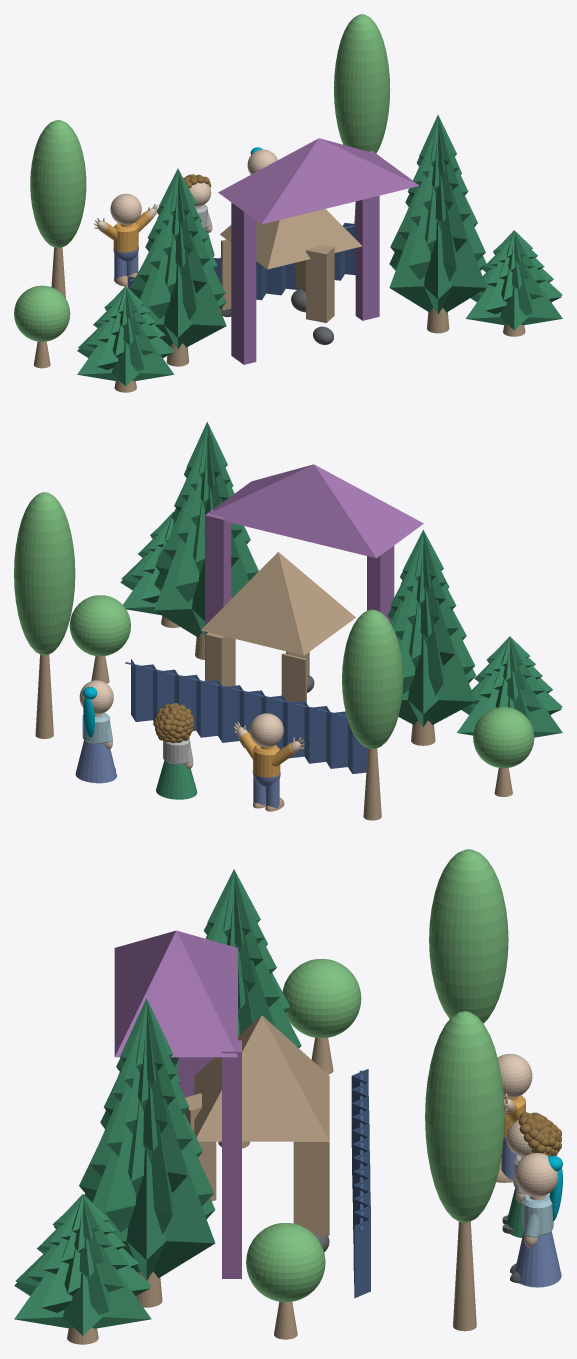
Rendered from catayleo2.gltf.
The picture shows the model from 3 angles, top to bottom: view 1: azimuth 30°, elevation 25°; view 2: azimuth 150°, elevation 25°; view 3: azimuth 270°, elevation 25°; orthographic projection. The views are drawn at different scales.
Visible parts, largest first — view 1: Mesh_Mesh_head_geo.001_lambert2SG.001; view 2: Mesh_Mesh_head_geo.001_lambert2SG.001; view 3: Mesh_Mesh_head_geo.001_lambert2SG.001.
Part boxes in pixels (x1,y1,x2,y2): Mesh_Mesh_head_geo.001_lambert2SG.001: [14, 14, 562, 392]; Mesh_Mesh_head_geo.001_lambert2SG.001: [14, 422, 562, 820]; Mesh_Mesh_head_geo.001_lambert2SG.001: [14, 849, 562, 1344].
Bounding box in the file's own units: 189 × 89 × 138.
